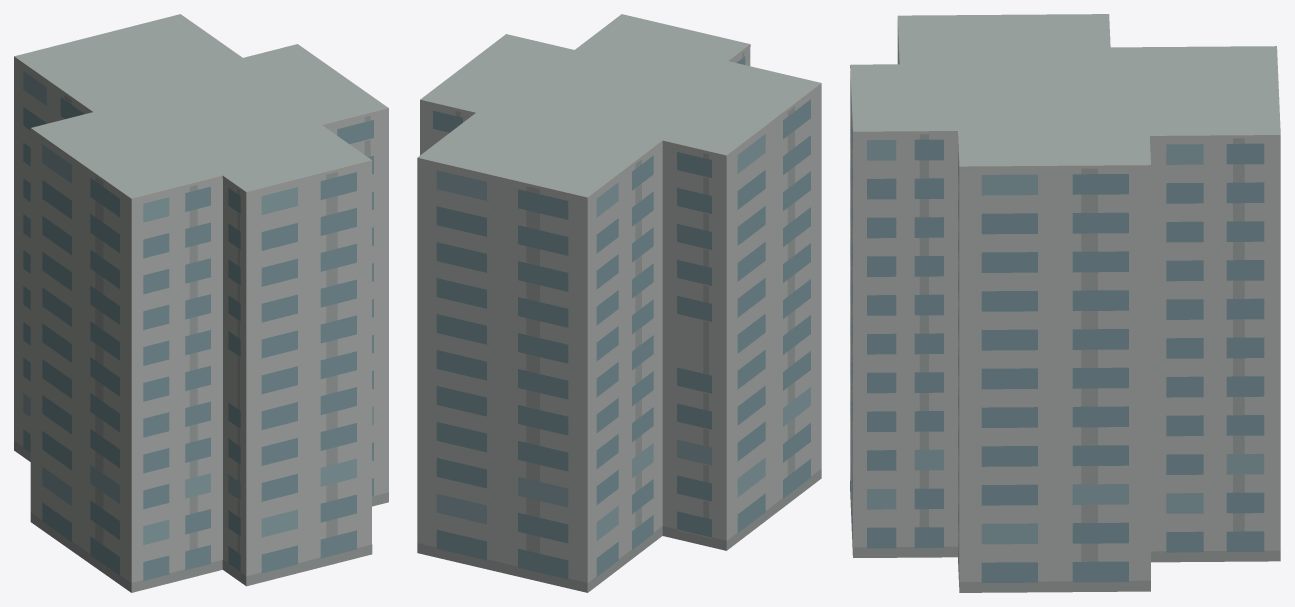
The model's file is residential-0e6b1c5a-0660-44a1-a7db-cb396fe4827e.glb.
3 views of the same model, side by side, from view 1: azimuth 30°, elevation 25°; view 2: azimuth 150°, elevation 25°; view 3: azimuth 270°, elevation 25° (orthographic). The views are drawn at different scales.
Visible parts, largest first — view 1: residential-0e6b1c5a-0660-44a1-a7db-cb396fe4827e.tmp; view 2: residential-0e6b1c5a-0660-44a1-a7db-cb396fe4827e.tmp; view 3: residential-0e6b1c5a-0660-44a1-a7db-cb396fe4827e.tmp.
Boxes of the visible parts, <box> form: residential-0e6b1c5a-0660-44a1-a7db-cb396fe4827e.tmp: <box>14,14,388,592</box>; residential-0e6b1c5a-0660-44a1-a7db-cb396fe4827e.tmp: <box>417,14,821,592</box>; residential-0e6b1c5a-0660-44a1-a7db-cb396fe4827e.tmp: <box>850,14,1280,592</box>.
Bounding box in the file's own units: 25.75 × 33.55 × 30.71.
